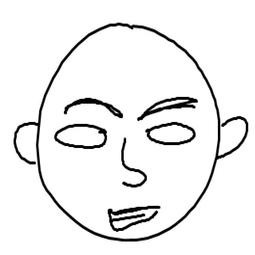empty_eye: (142, 118, 198, 157), (50, 122, 113, 153)
eyebrow: (133, 90, 205, 125), (56, 91, 124, 123)
nose: (113, 137, 147, 191)
open_mouth: (102, 204, 163, 235)
